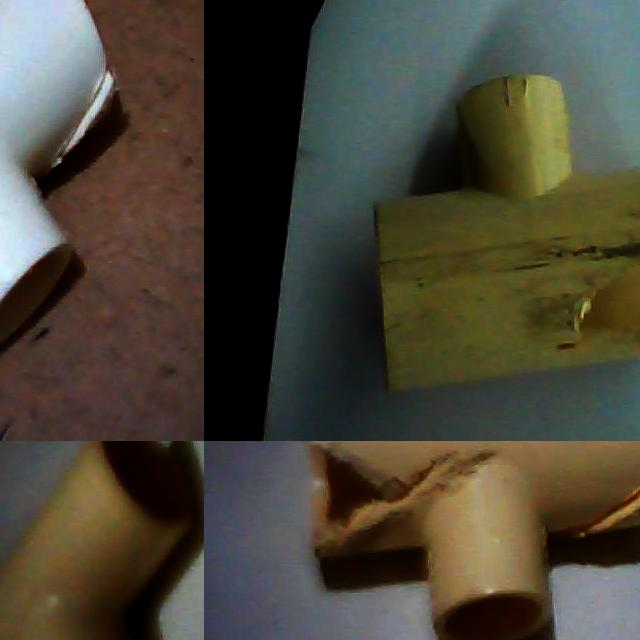Defective: (300, 441, 425, 564), (44, 63, 119, 188), (569, 238, 640, 364), (549, 471, 640, 559)
T Joint: (373, 75, 640, 396), (300, 441, 640, 640), (0, 441, 195, 640)
